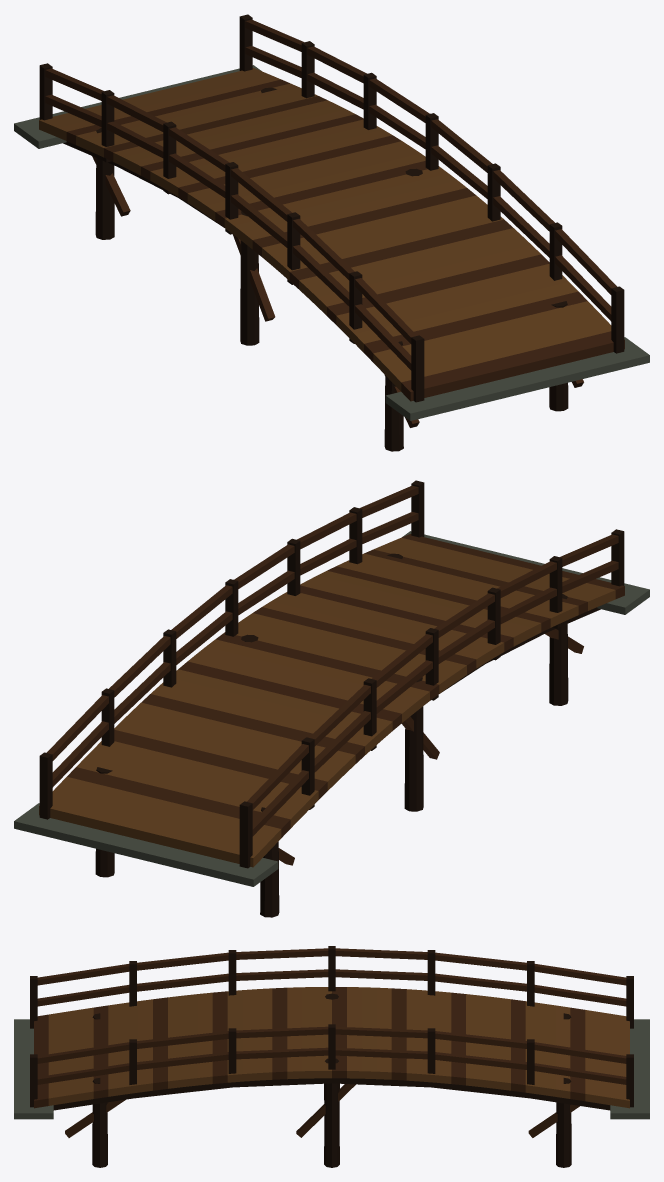
File: Bridge.fbx
The picture shows the model from 3 angles, top to bottom: view 1: azimuth 30°, elevation 25°; view 2: azimuth 150°, elevation 25°; view 3: azimuth 270°, elevation 25°; orthographic projection. The views are drawn at different scales.
Parts seen in each view (by area): view 1: Bridge_LOD0; view 2: Bridge_LOD0; view 3: Bridge_LOD0.
Part boxes in pixels (x1,y1,x2,y2): Bridge_LOD0: [14, 14, 649, 451]; Bridge_LOD0: [14, 480, 649, 917]; Bridge_LOD0: [14, 946, 649, 1167].
Size of what is drawn, in the model's own units: 6.7 by 4.85 by 19.2.
